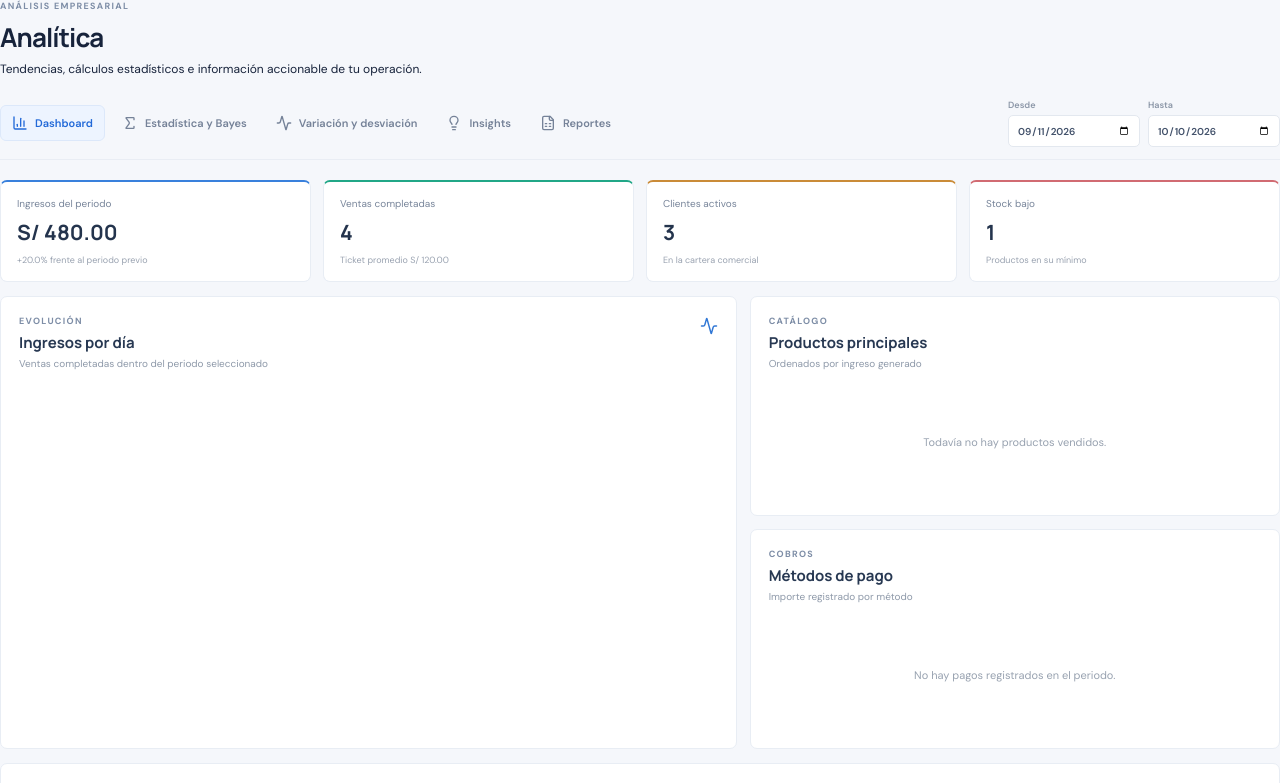
AnalyticsPage › explica la fórmula y las variables del teorema de Bayes
Click the tab "Estadística y Bayes" at x=184, y=123, box x1=110 y1=105 x2=259 y2=141
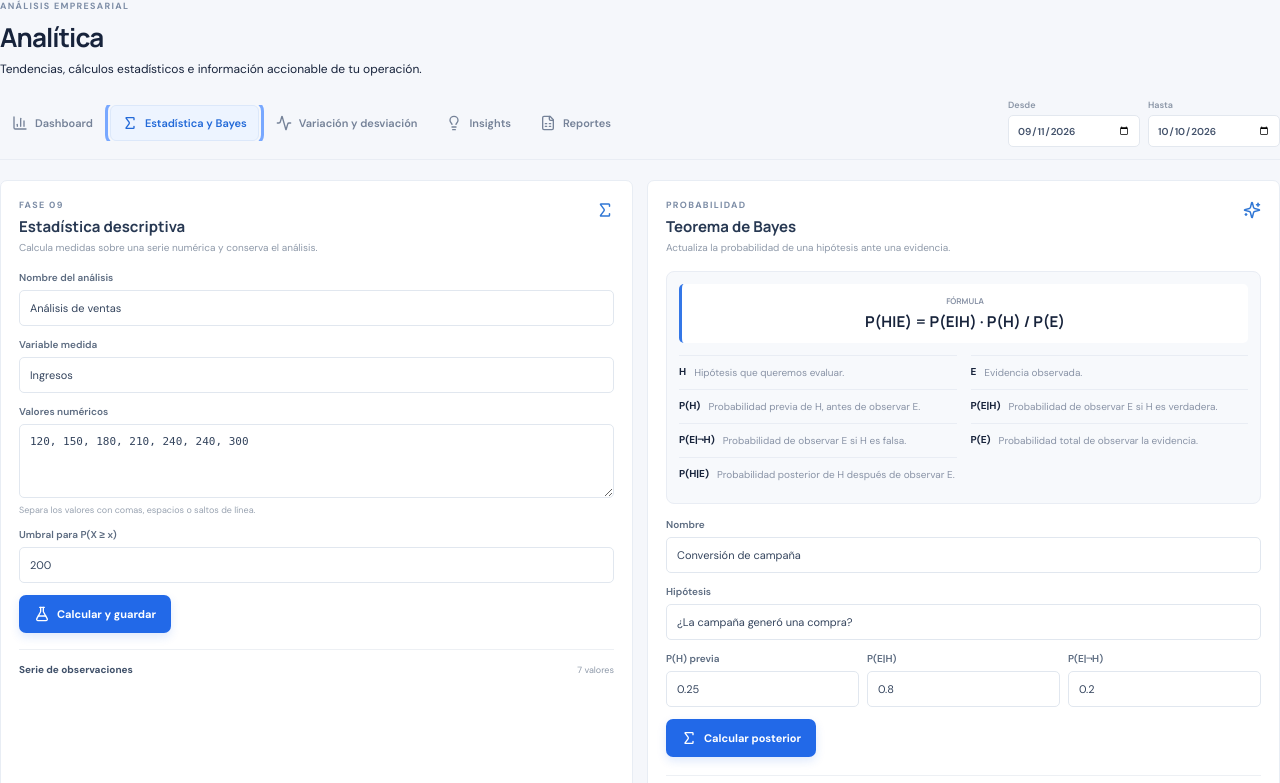
Now the text "P(H|E) = P(E|H) · P(H) / P(E)" is shown, box x1=679 y1=284 x2=1248 y2=343
Now the text "Hipótesis que queremos evaluar." is shown, box x1=694 y1=366 x2=844 y2=379
Now the text "Evidencia observada." is shown, box x1=984 y1=366 x2=1082 y2=379
